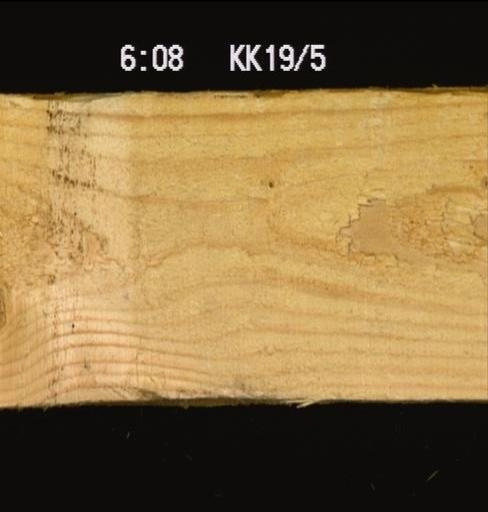small_knot: (475, 165, 486, 193), (264, 175, 277, 190)
wave: (121, 378, 315, 401), (0, 90, 133, 109), (244, 89, 292, 103)
